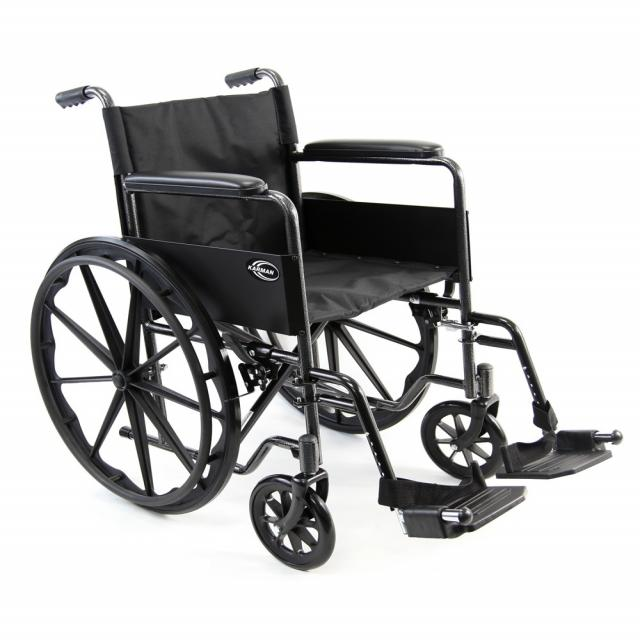wheelchair: (26, 53, 640, 578)
